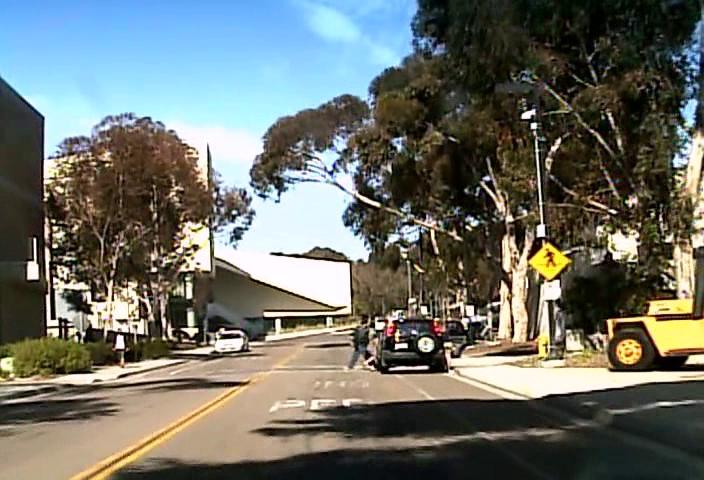pedestrianCrossing: (527, 240, 571, 280)
